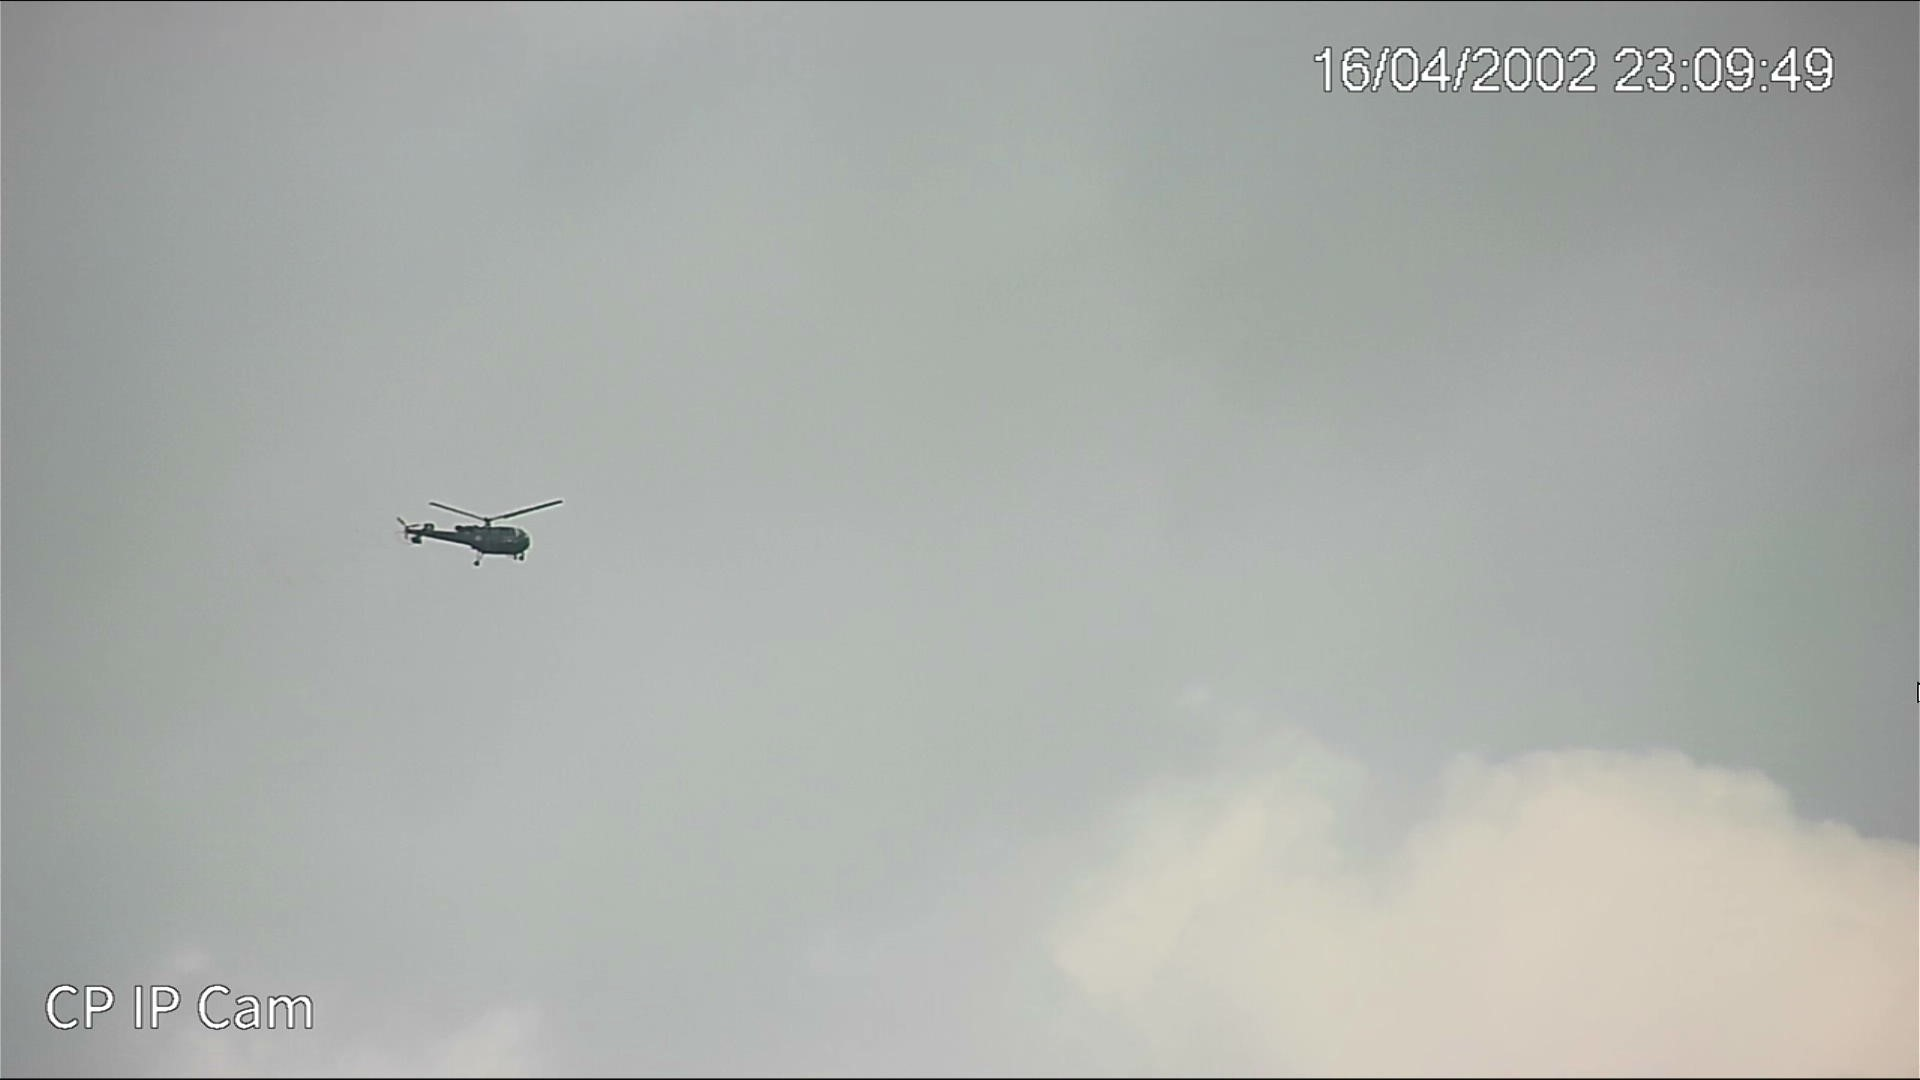SU_30: (397, 505, 537, 568)
